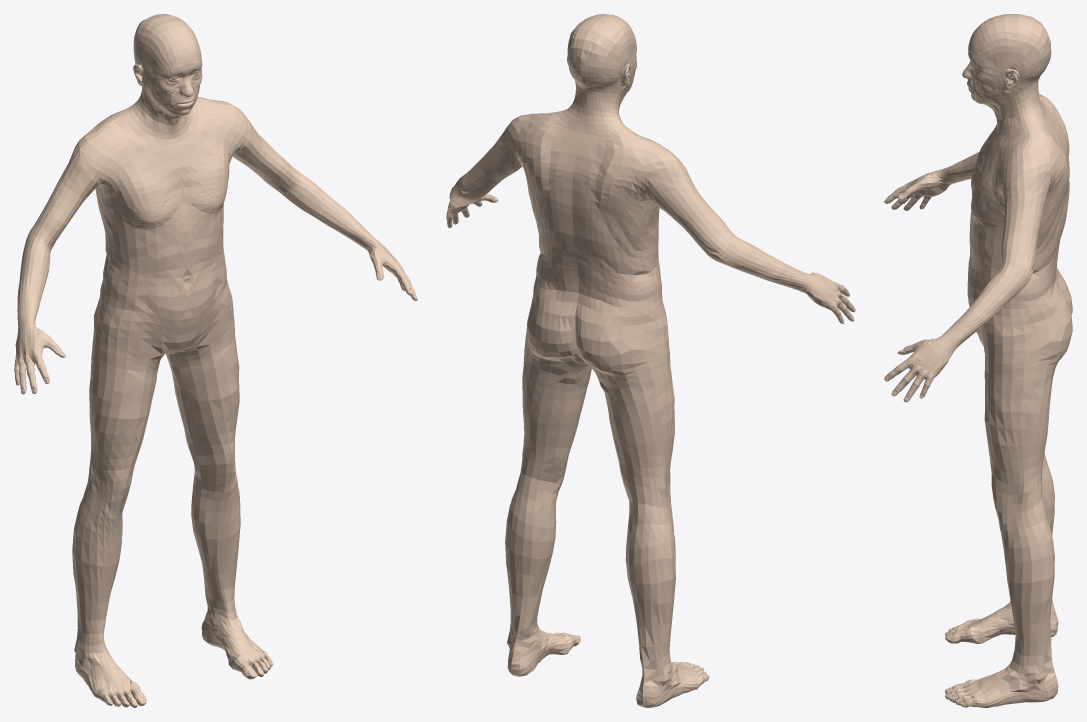
The model's file is male-older-average-toned.glb.
3 renders of one model, left to right at view 1: azimuth 30°, elevation 25°; view 2: azimuth 150°, elevation 25°; view 3: azimuth 270°, elevation 25°, orthographic.
Parts seen in each view (by area): view 1: world; view 2: world; view 3: world.
Part boxes in pixels (bbox=[...]): world: bbox=[14, 14, 417, 707]; world: bbox=[446, 14, 855, 707]; world: bbox=[884, 14, 1072, 707].
Size of the model in its own units: 1.22 by 1.93 by 0.5058.
